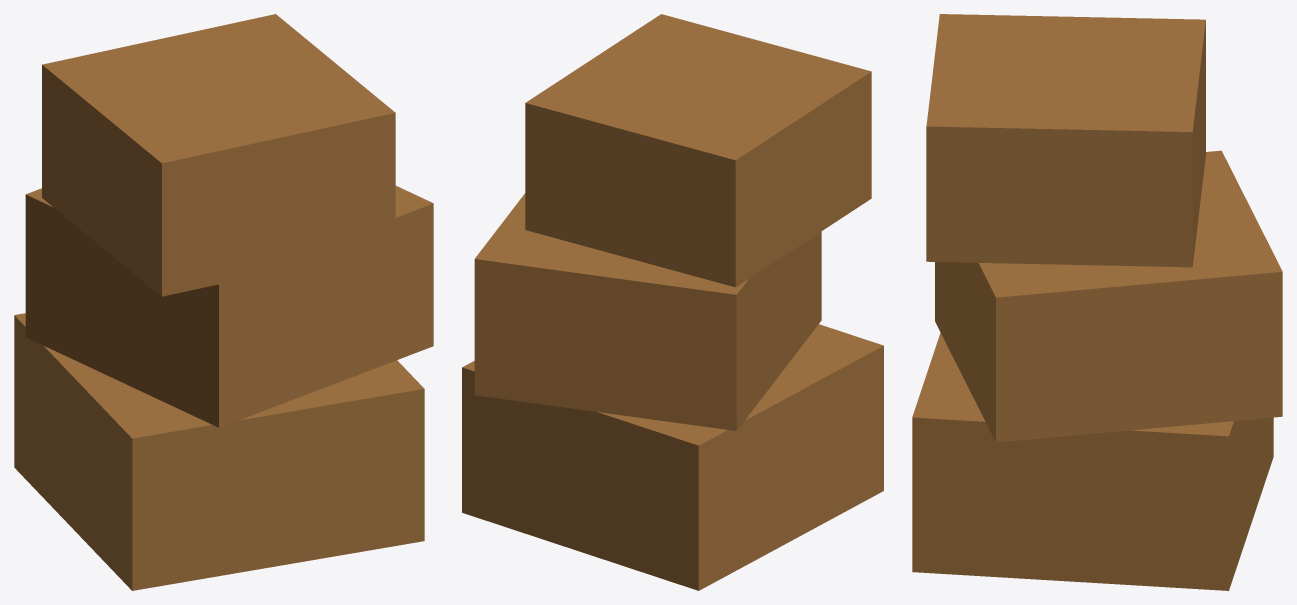
Rendered from env_crate_stack.obj.
3 renders of one model, left to right at view 1: azimuth 30°, elevation 25°; view 2: azimuth 150°, elevation 25°; view 3: azimuth 270°, elevation 25°, orthographic. The views are drawn at different scales.
Visible parts, largest first — view 1: CrateStack; view 2: CrateStack; view 3: CrateStack.
Boxes of the visible parts, bbox=[...] form: CrateStack: bbox=[14, 14, 433, 590]; CrateStack: bbox=[462, 14, 883, 590]; CrateStack: bbox=[912, 14, 1282, 590].
Size of the model in its own units: 0.7052 by 0.9 by 0.6952.
